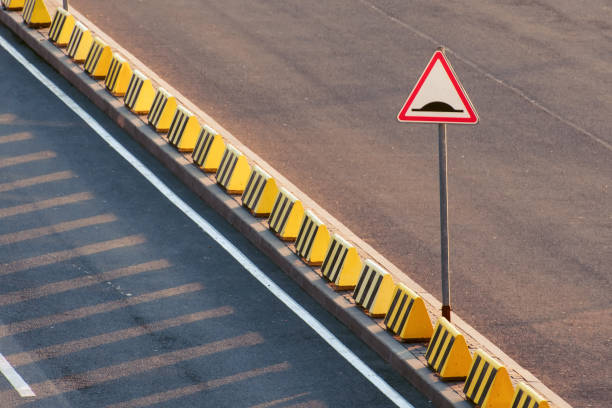speed-breaker: (395, 51, 477, 124)
